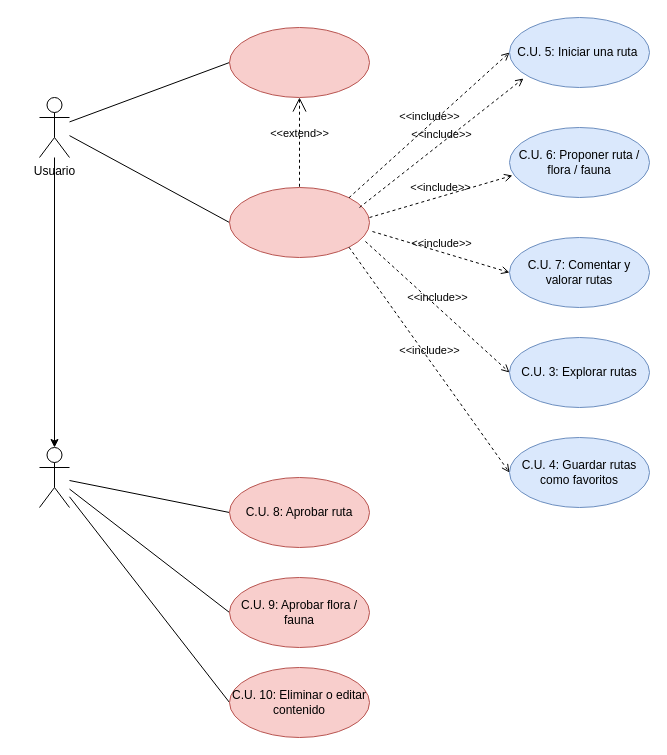
This 667x755 diagram has some shape labels left out. The box of each missing label's shape, as (x1, y1, x2, y2) in pixels:
Administrador: (38, 446, 70, 508)
C.U. 1: Registrarse: (228, 26, 370, 98)
C.U. 2: Iniciar sesión: (228, 186, 370, 258)
